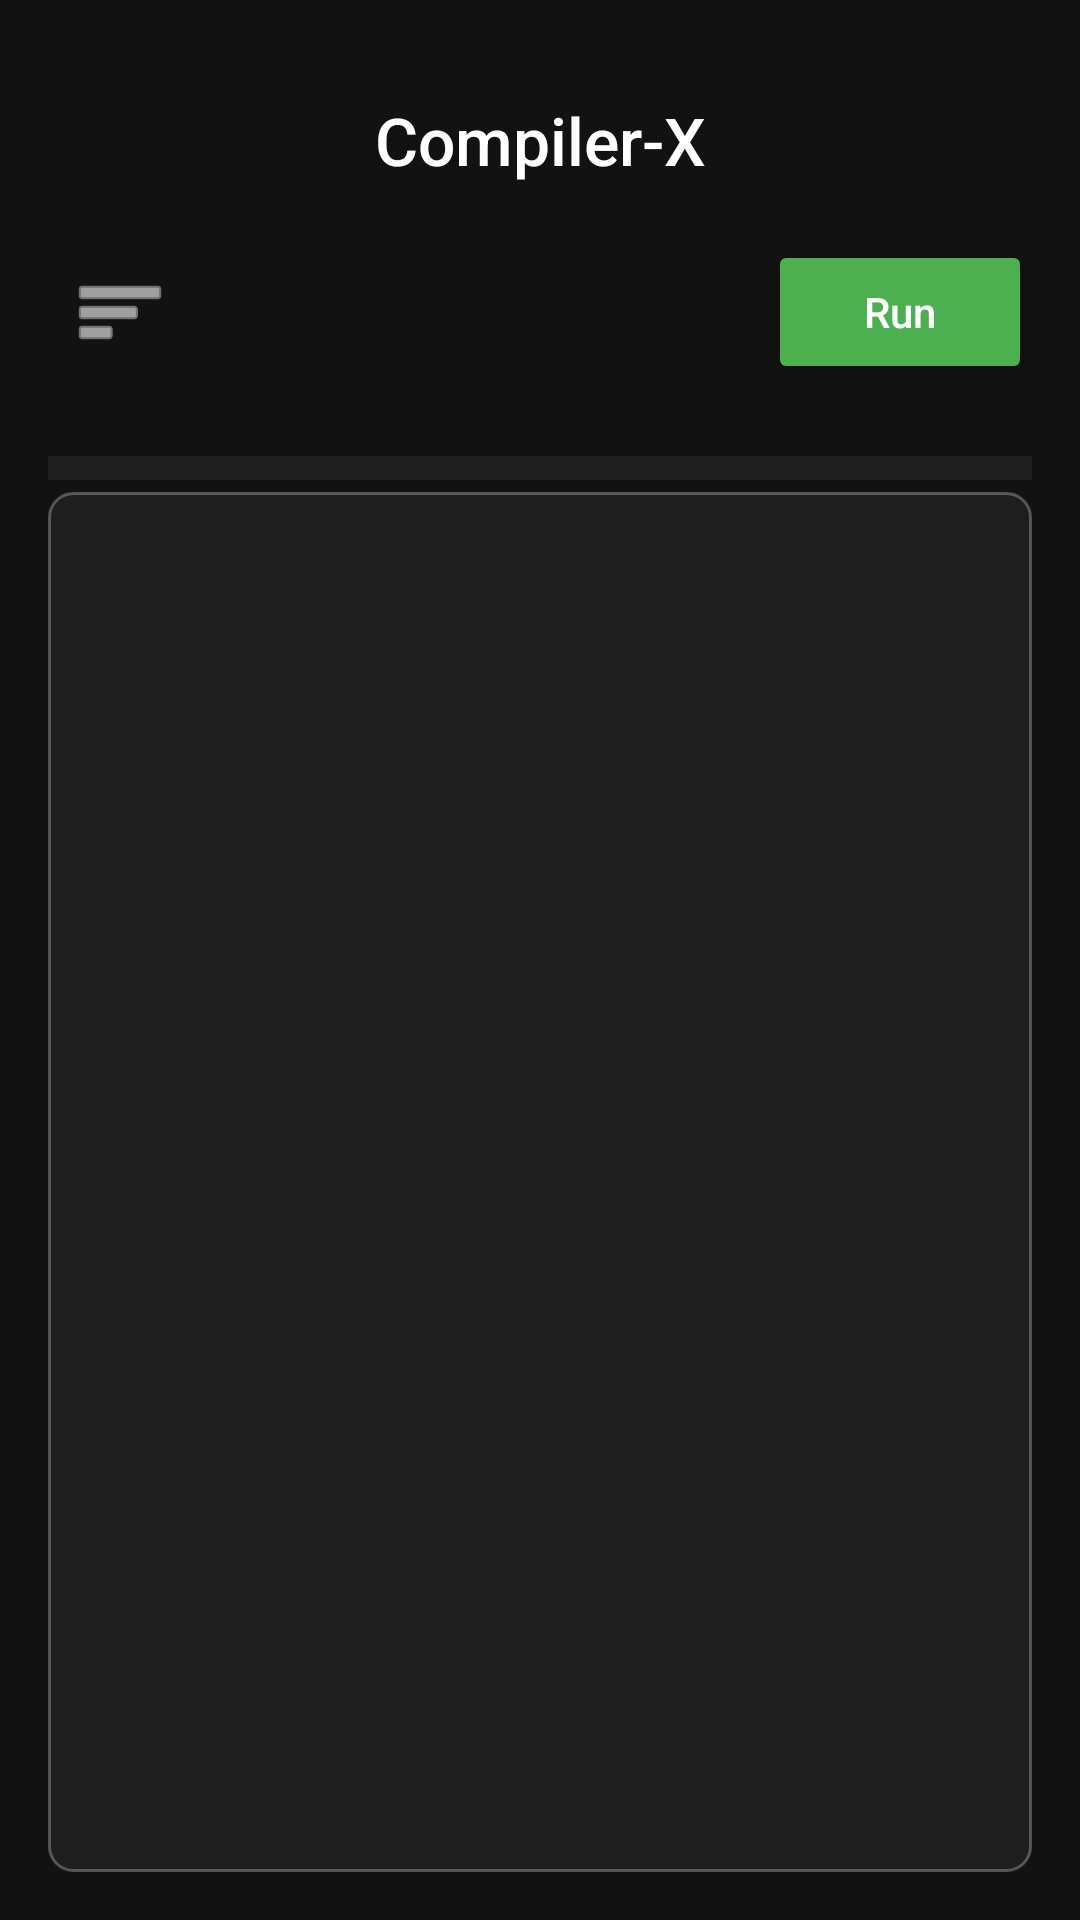

Locate icon controls on the screen. Image size 1080*1920, boxes as (x1, y1, x2, y2).
sort by size: (79, 286, 161, 339)
